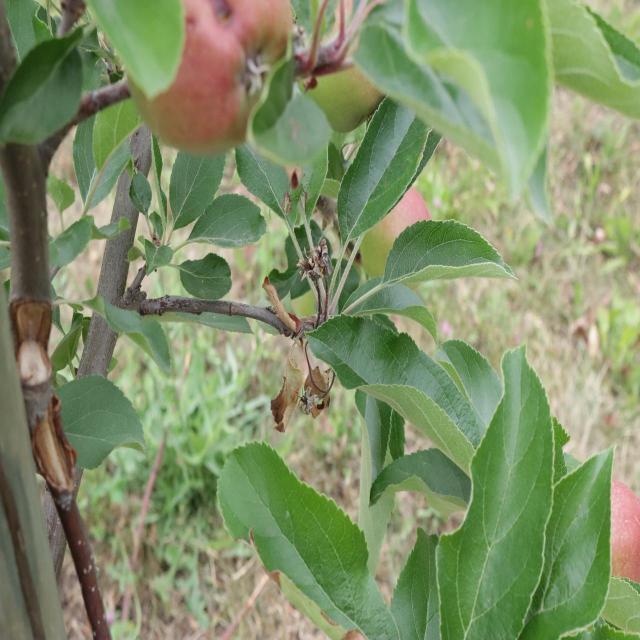-FireBlight-: (266, 364, 340, 426), (270, 268, 304, 326)
